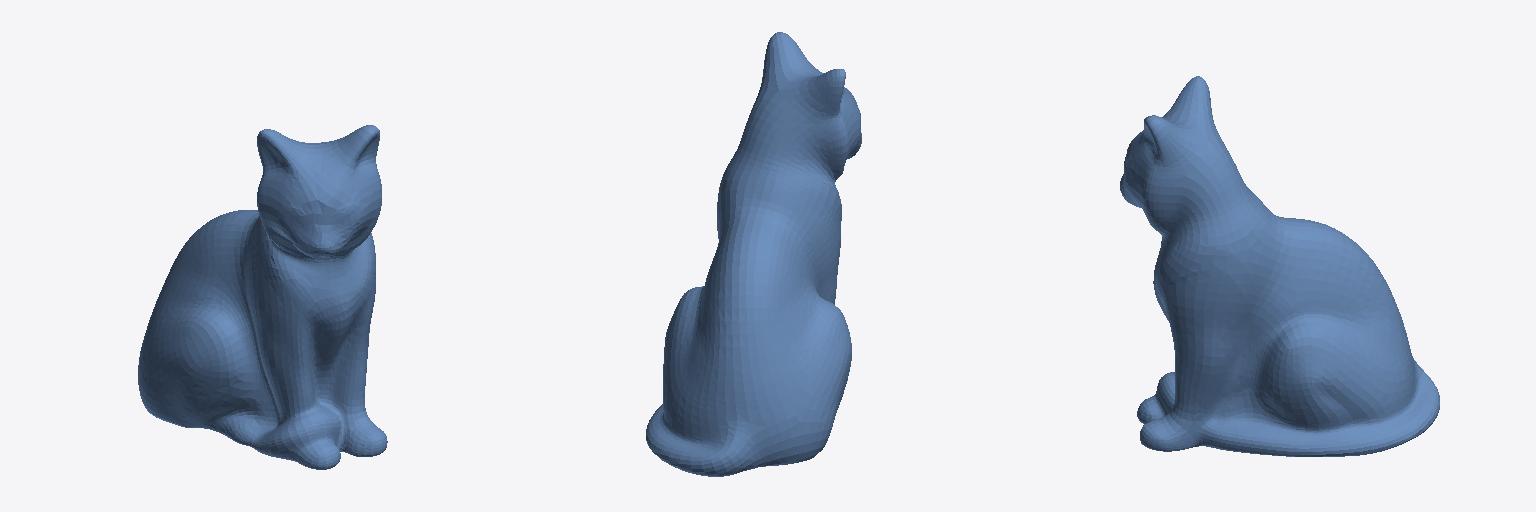
3 renders of one model, left to right at view 1: azimuth 30°, elevation 25°; view 2: azimuth 150°, elevation 25°; view 3: azimuth 270°, elevation 25°, orthographic.
Visible parts, largest first — view 1: concrete_cat_statue; view 2: concrete_cat_statue; view 3: concrete_cat_statue.
Boxes of the visible parts, box(x1,y1,x2,y2) form: concrete_cat_statue: box(138, 125, 387, 469); concrete_cat_statue: box(646, 32, 861, 476); concrete_cat_statue: box(1120, 76, 1439, 456).
Bounding box in the file's own units: 0.153 × 0.283 × 0.25.
1 materials, 1 textured.